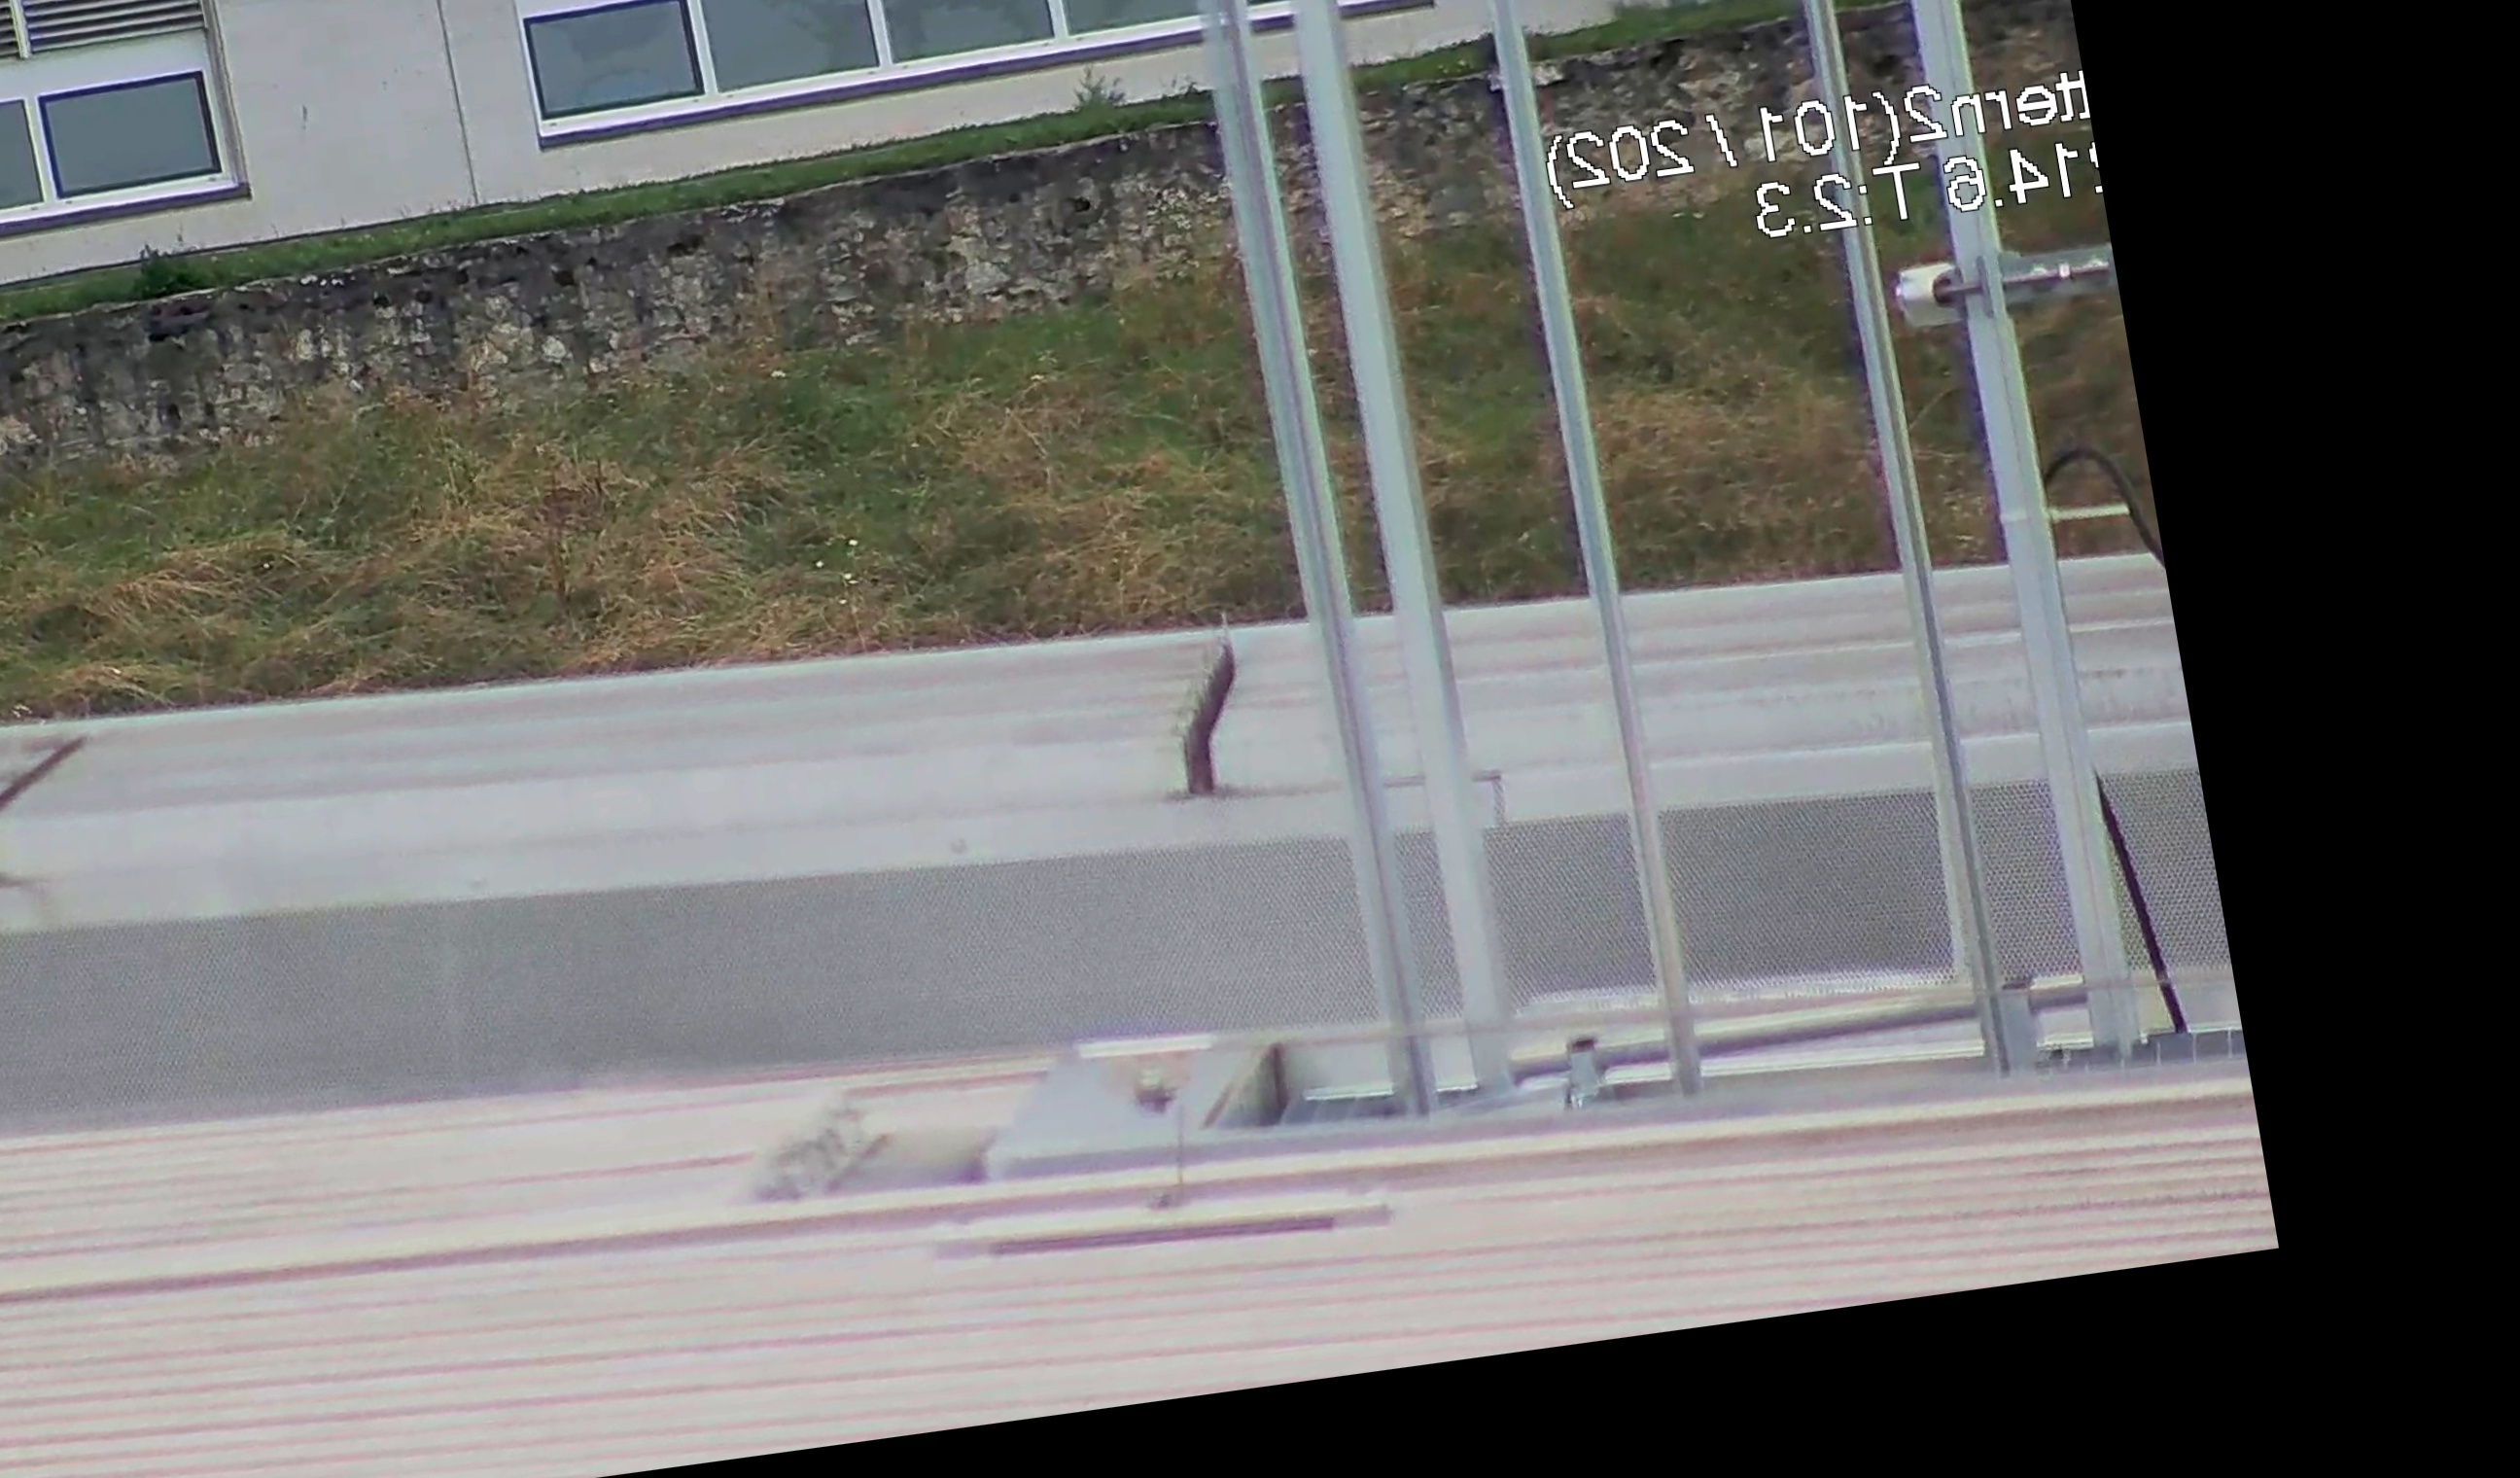Other: (1138, 614, 1285, 813)
